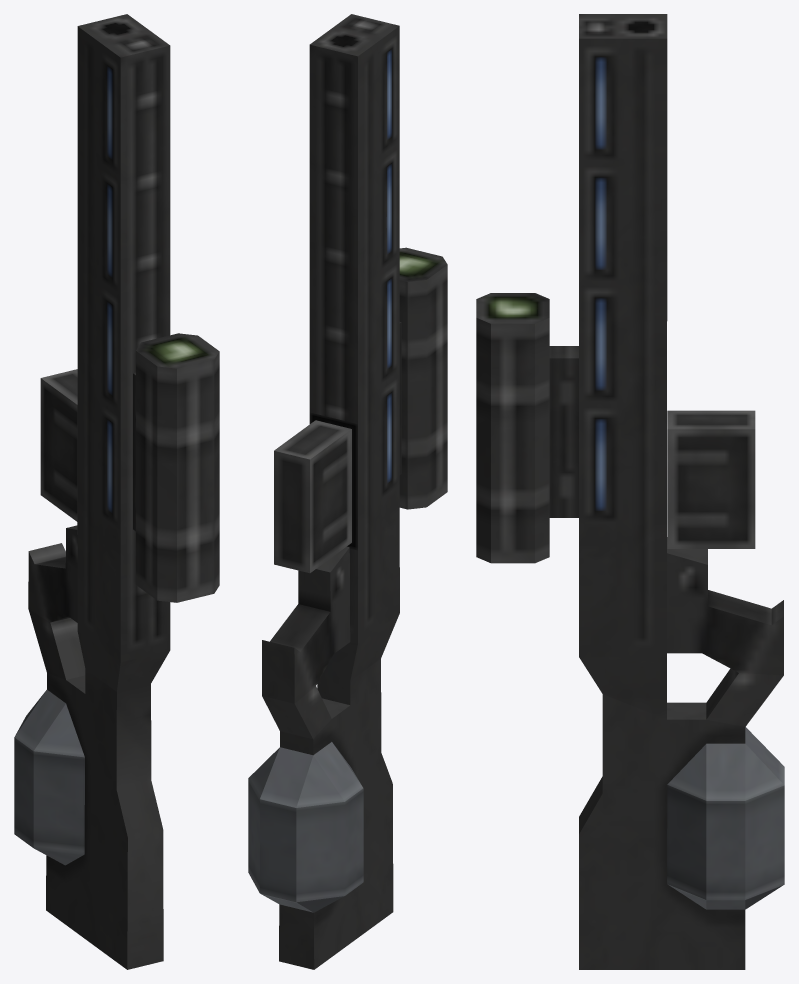
Rendered from needle_gun.obj.
The picture shows the model from 3 angles, left to right: view 1: azimuth 30°, elevation 25°; view 2: azimuth 150°, elevation 25°; view 3: azimuth 270°, elevation 25°; orthographic projection. The views are drawn at different scales.
Visible parts, largest first — view 1: gun, magazine; view 2: gun, magazine; view 3: gun, magazine.
Part boxes in pixels (left/top/right/bottom): gun: left=14, top=14, right=219, bottom=969; magazine: left=40, top=369, right=77, bottom=521; gun: left=248, top=14, right=447, bottom=969; magazine: left=274, top=420, right=351, bottom=573; gun: left=476, top=14, right=784, bottom=969; magazine: left=667, top=410, right=755, bottom=548.
Size of the model in its own units: 8 by 70.25 by 21.
